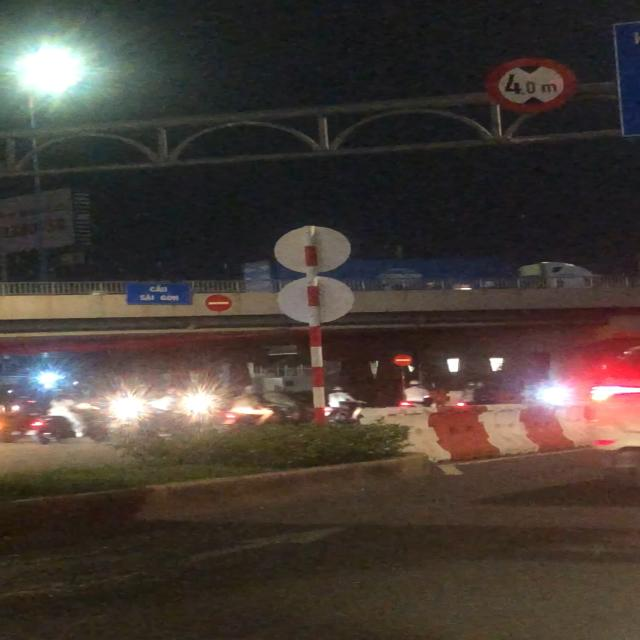Bien bao cam di nguoc chieu: (203, 291, 236, 313)
Bien bao han che chieu cao: (484, 55, 581, 115)
